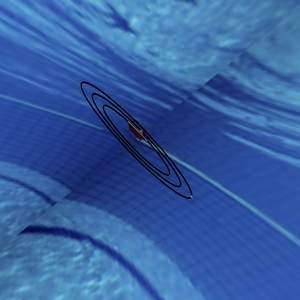circle: (71, 64, 201, 217)
submarine: (122, 115, 150, 147)
